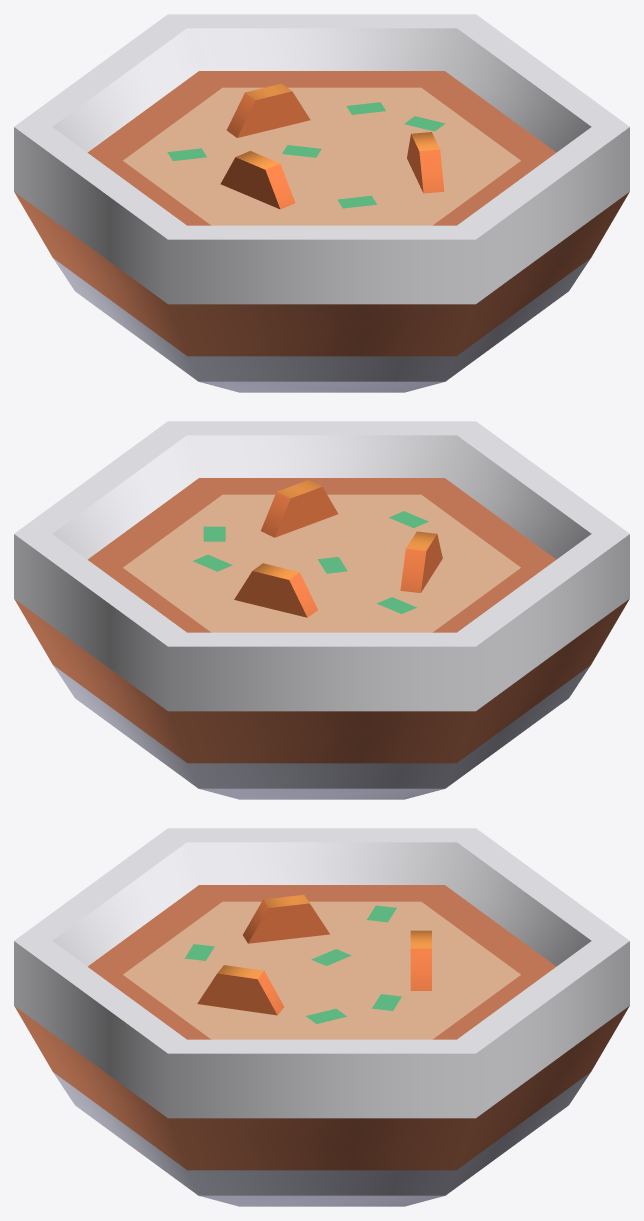
The model's file is sopa.glb.
3 views of the same model, one above another, from view 1: azimuth 30°, elevation 25°; view 2: azimuth 150°, elevation 25°; view 3: azimuth 270°, elevation 25° (orthographic).
Parts seen in each view (by area): view 1: bowl-soup; view 2: bowl-soup; view 3: bowl-soup.
Part boxes in pixels (x1=…): bowl-soup: x1=14, y1=14, x2=629, y2=392; bowl-soup: x1=14, y1=421, x2=629, y2=799; bowl-soup: x1=14, y1=828, x2=629, y2=1206.
Size of the model in its own units: 0.5022 by 0.2139 by 0.5798.
